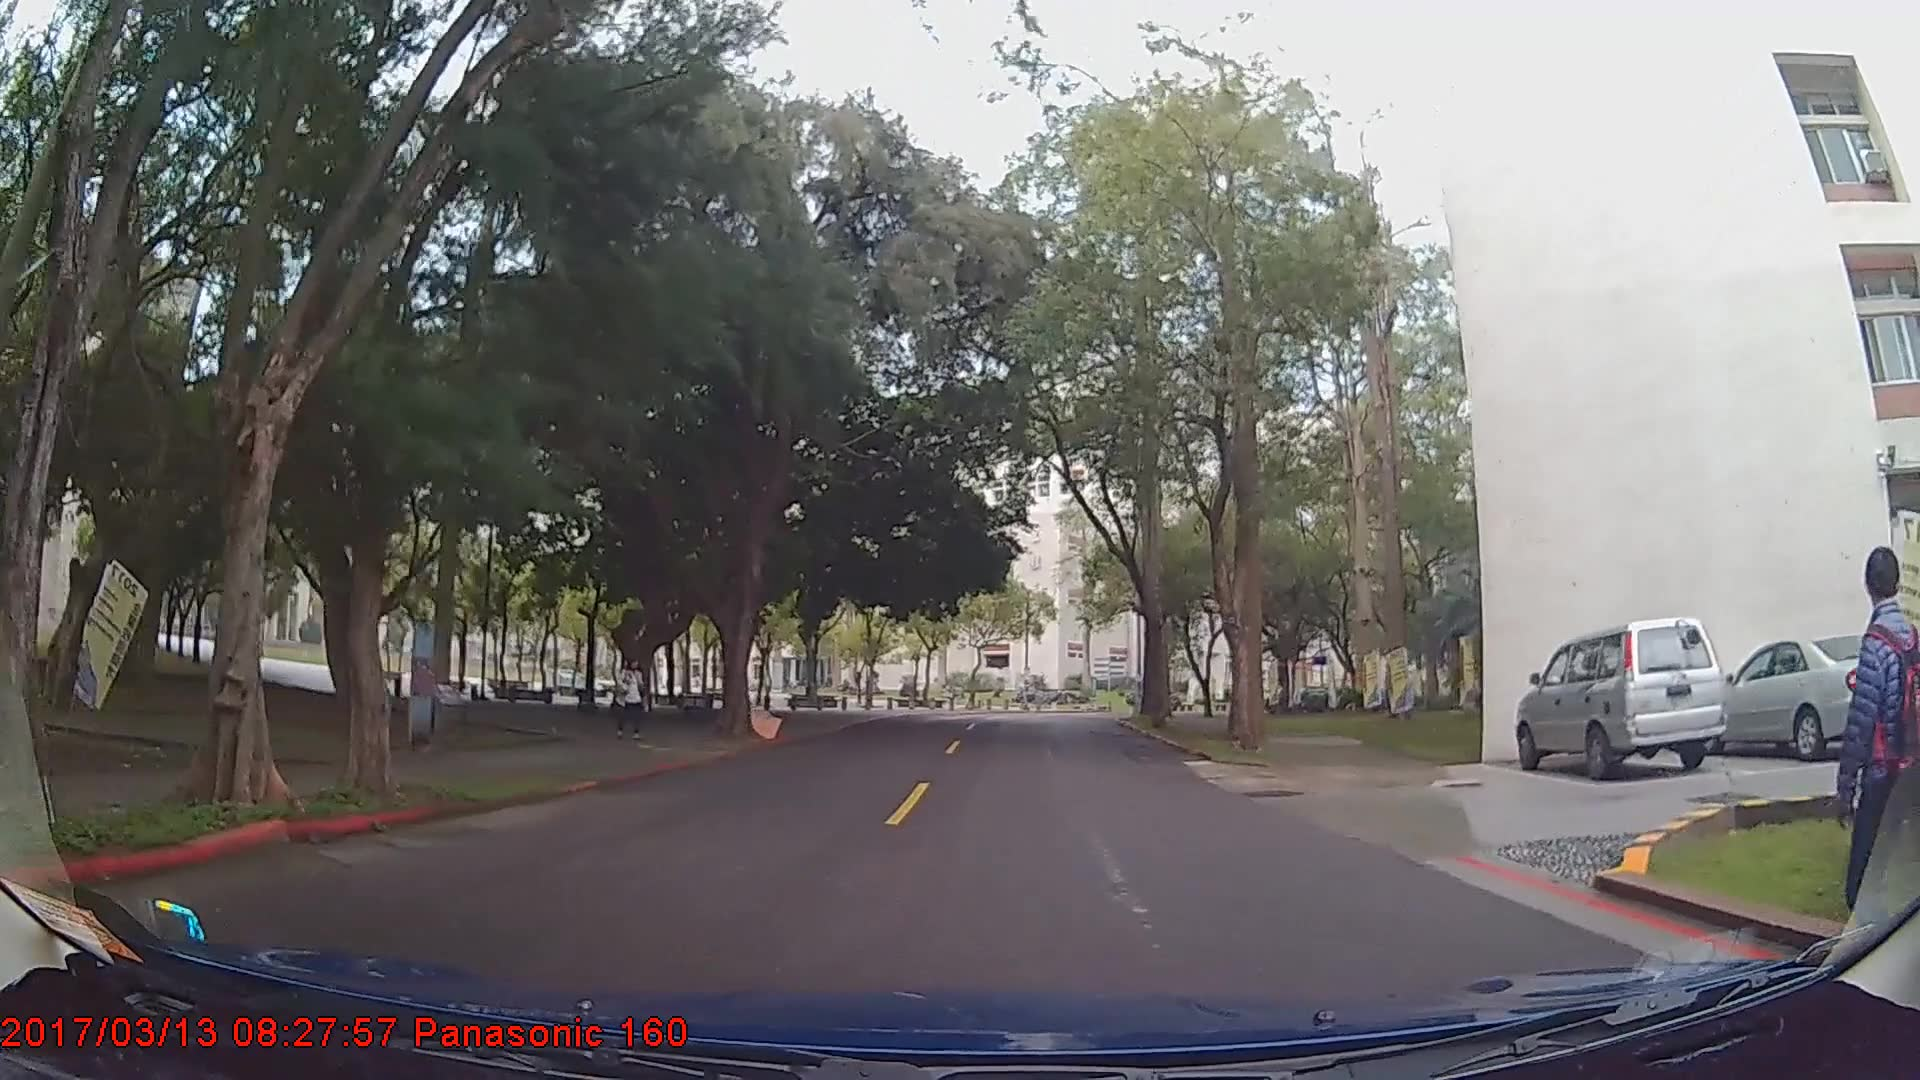pedestrian: (617, 652, 649, 739)
vehicle: (1516, 615, 1728, 780), (1710, 631, 1920, 760)
